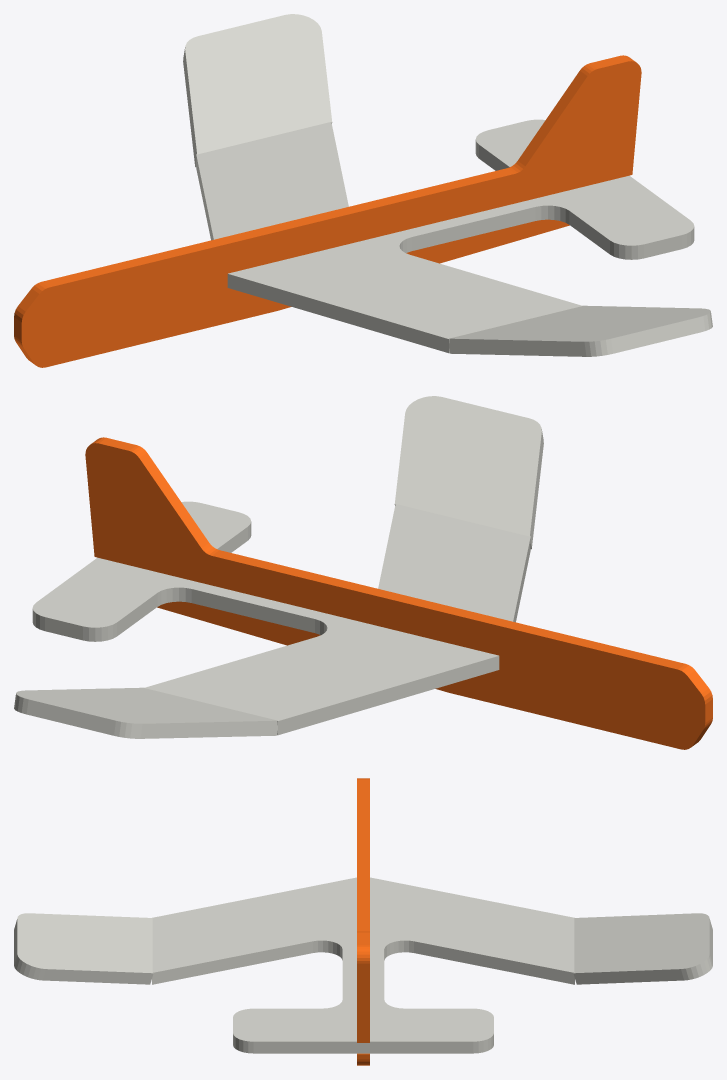
3 renders of one model, top to bottom at view 1: azimuth 30°, elevation 25°; view 2: azimuth 150°, elevation 25°; view 3: azimuth 270°, elevation 25°, orthographic. The views are drawn at different scales.
Visible parts, largest first — view 1: H, V; view 2: H, V; view 3: H, V.
Part boxes in pixels (x1,y1,x2,y2): H: (183,14,712,356); V: (14,55,641,367); H: (14,396,543,738); V: (85,437,712,749); H: (14,877,712,1053); V: (357,778,369,1065).
Size of the model in its own units: 0.2295 by 0.058 by 0.2676.
